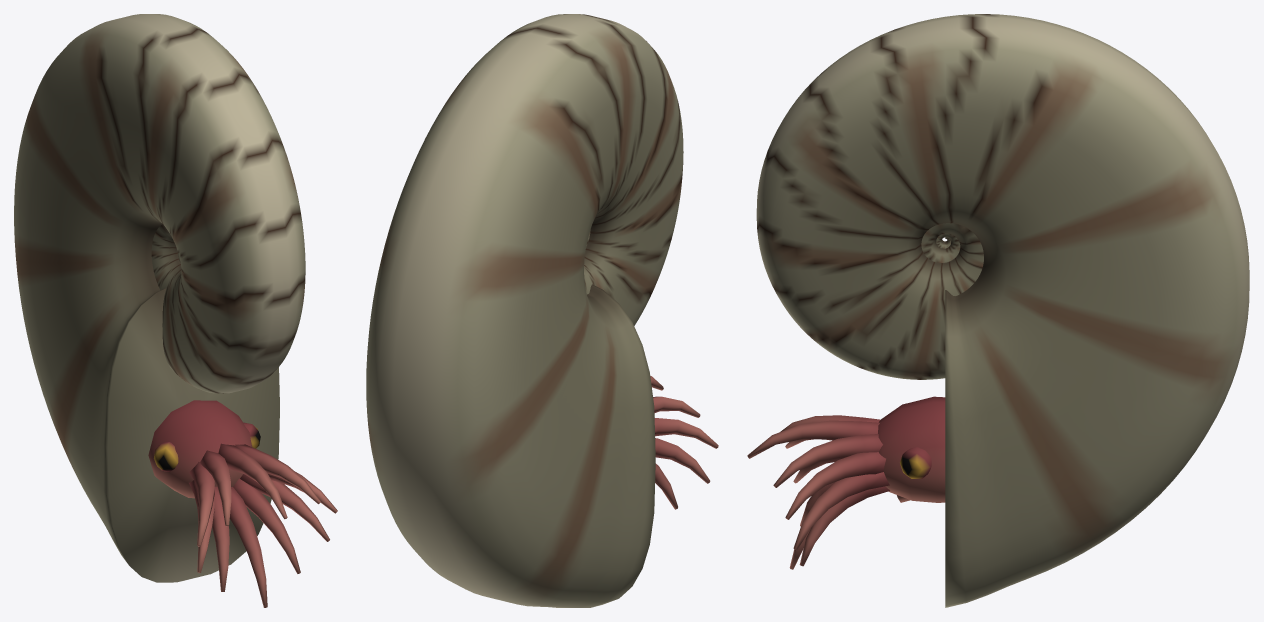
Rendered from Manticoceras.fbx.
3 views of the same model, side by side, from view 1: azimuth 30°, elevation 25°; view 2: azimuth 150°, elevation 25°; view 3: azimuth 270°, elevation 25° (orthographic). The views are drawn at different scales.
Visible parts, largest first — view 1: Manticoceras; view 2: Manticoceras; view 3: Manticoceras.
Boxes of the visible parts, box(x1,y1,x2,y2) form: Manticoceras: box(14, 14, 337, 607); Manticoceras: box(366, 14, 718, 607); Manticoceras: box(747, 14, 1249, 607).
Bounding box in the file's own units: 0.5573 × 1.65 × 1.31.
